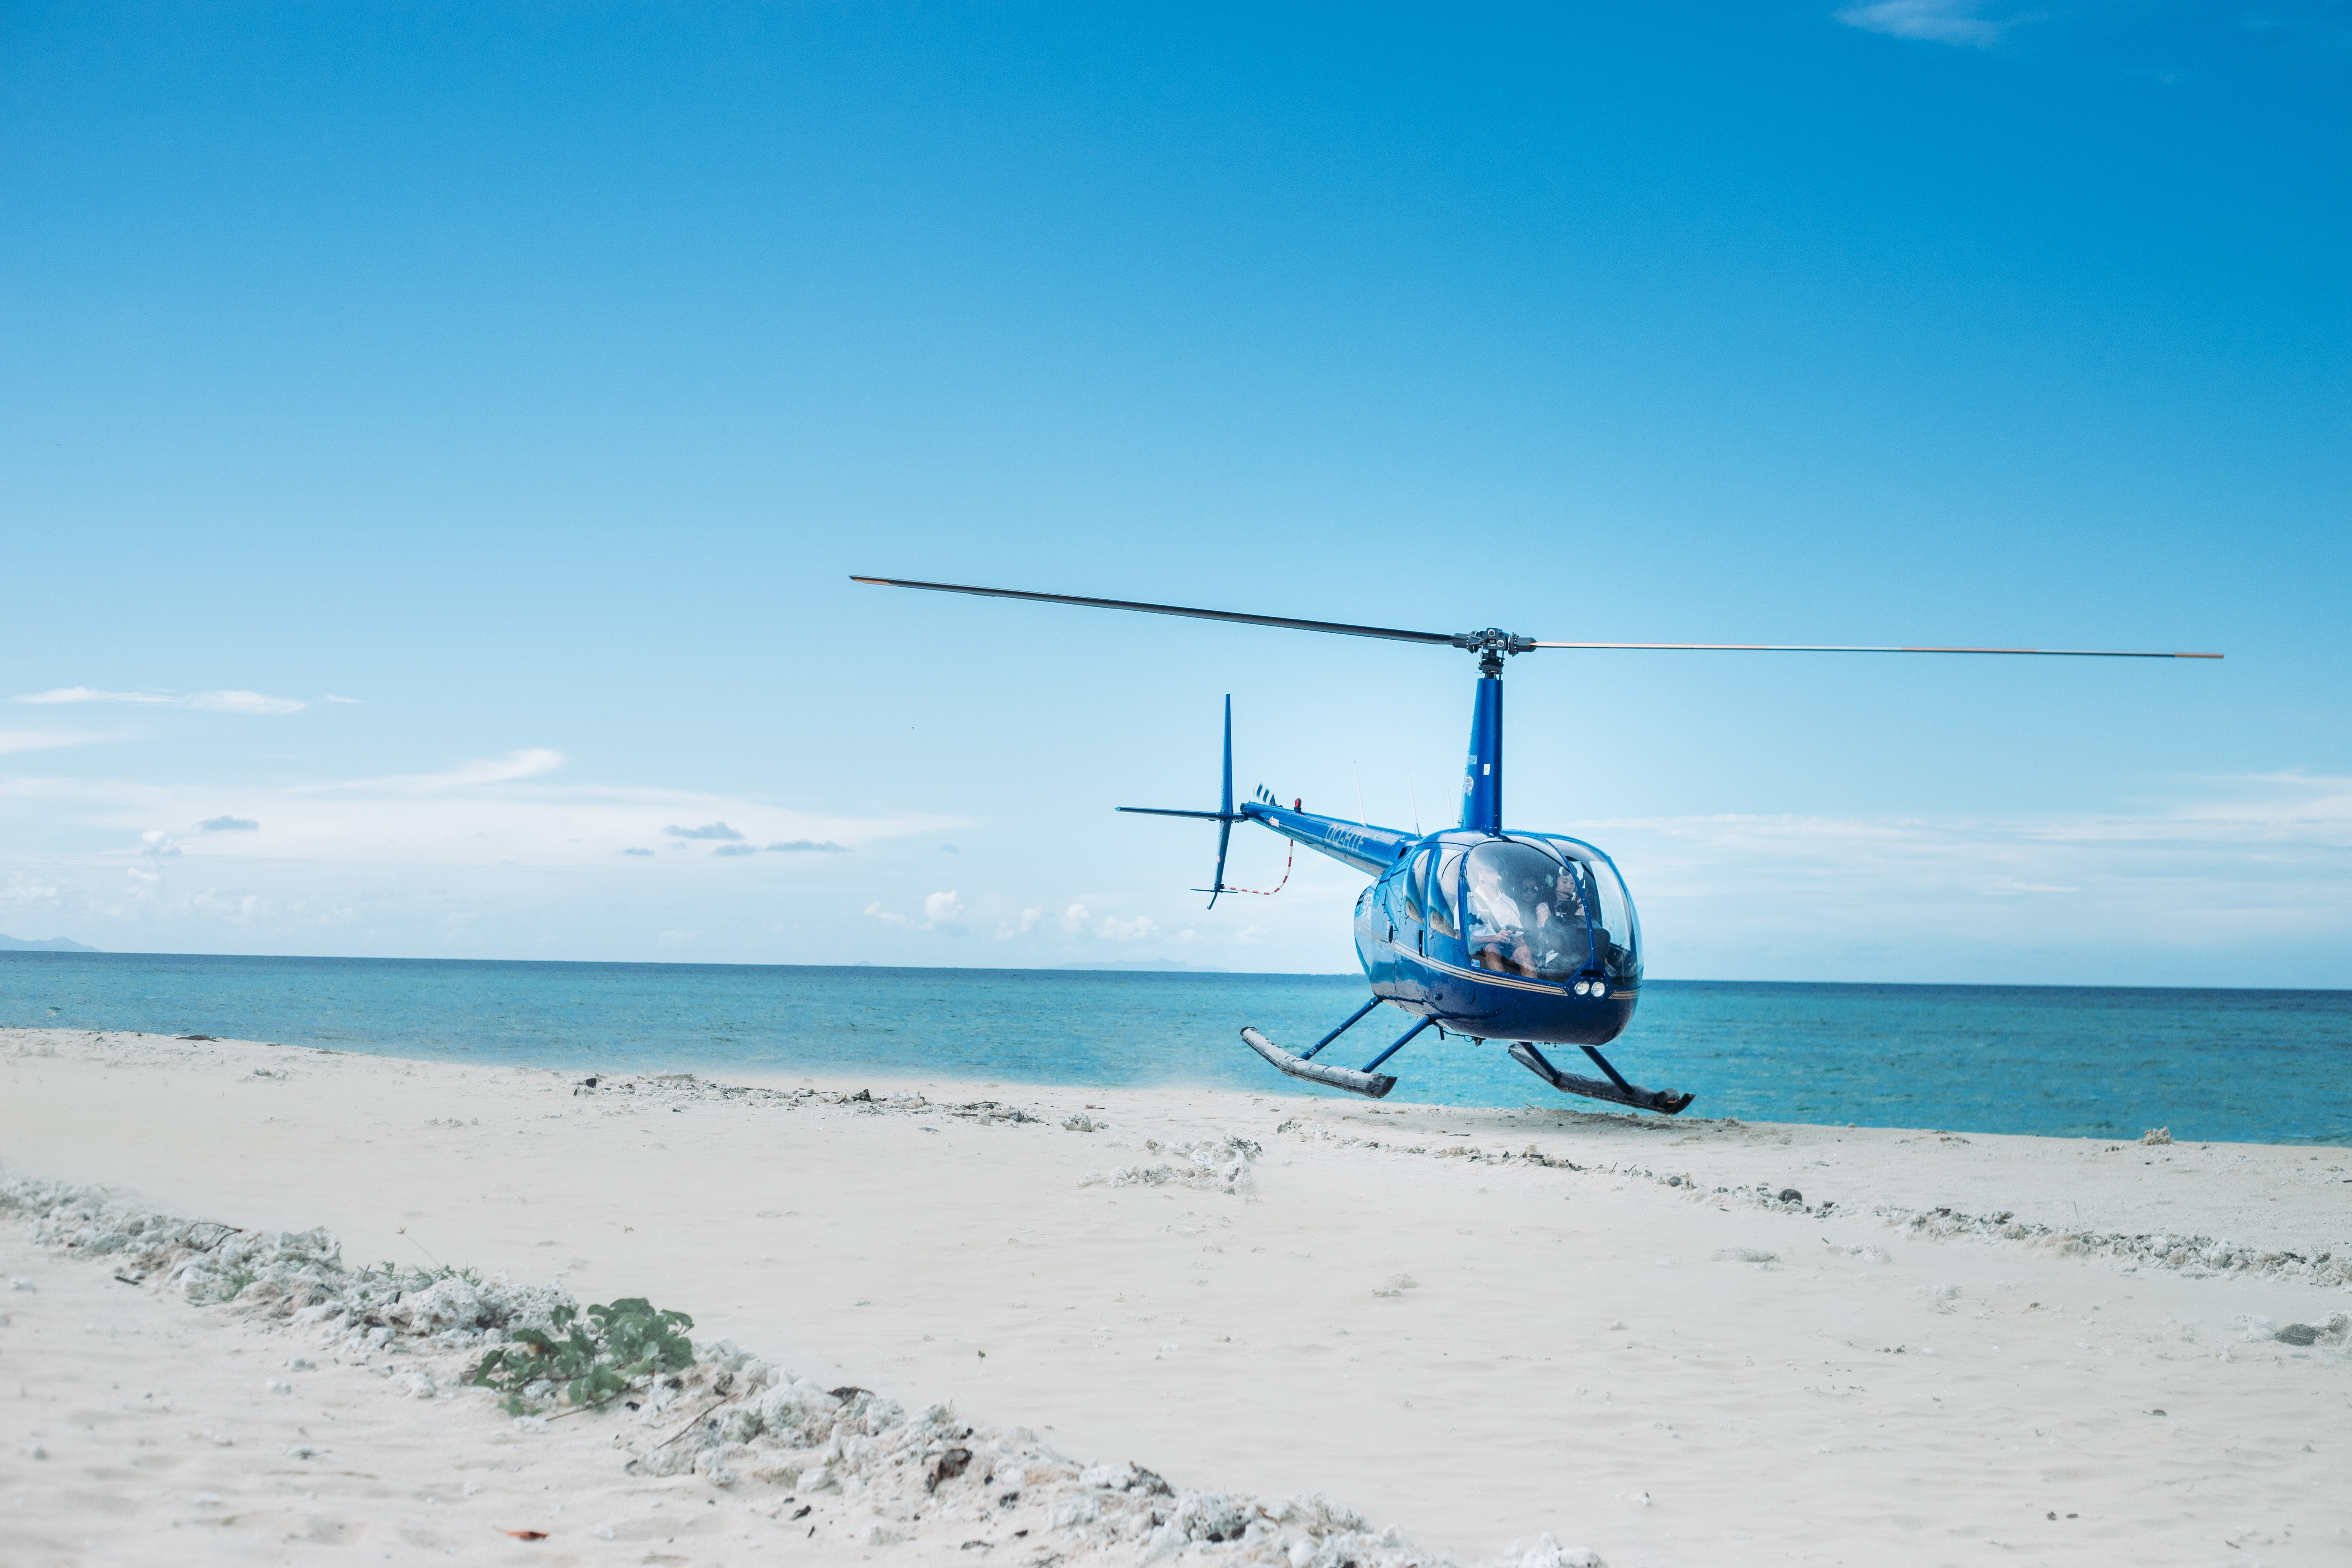helicopter: (772, 451, 2286, 1160)
